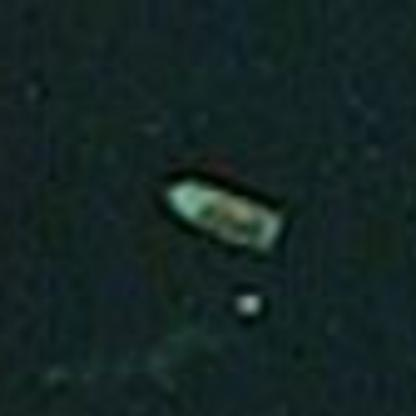ship: (149, 165, 291, 265)
